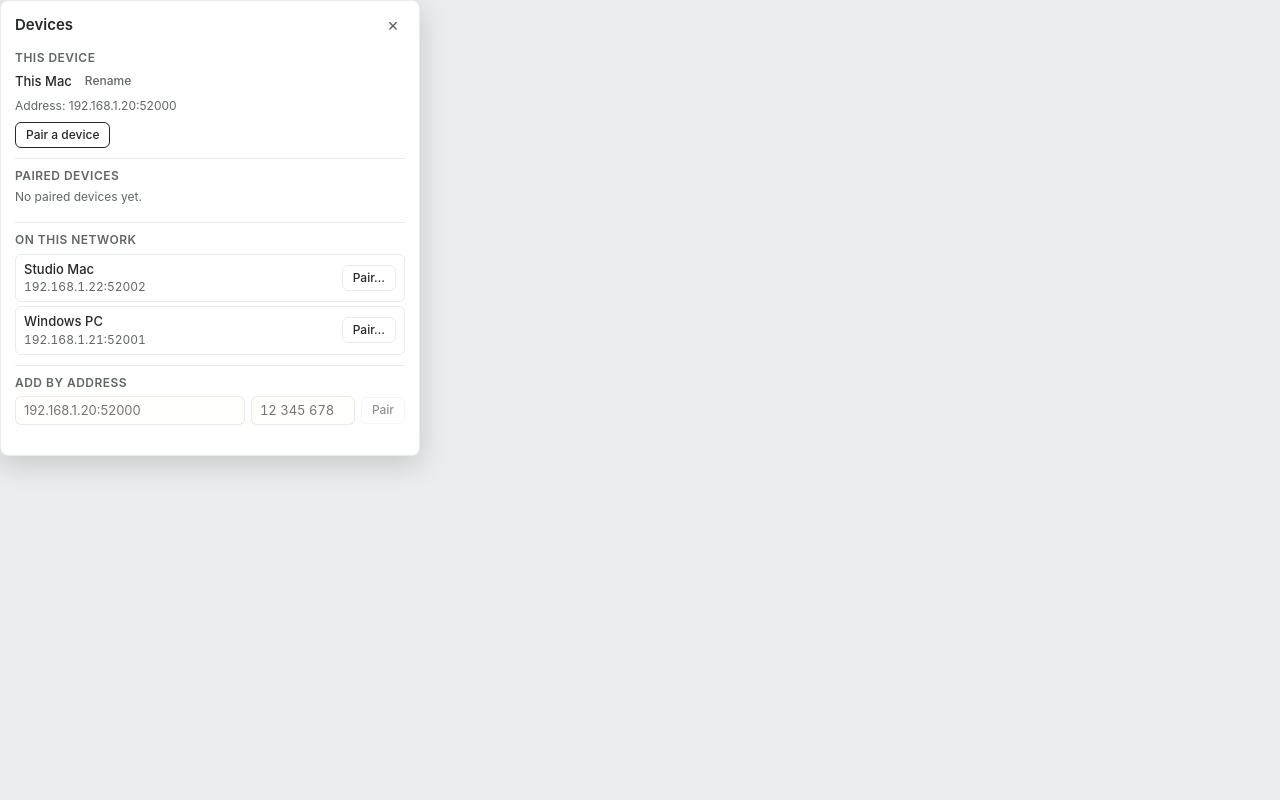
it: DevicesDialog › rejects a wrong code, then pairs a discovered device with the right one
Click the button with test id "discovered-pair" in the row of "Windows PC" at [369, 330], box [342,317,396,344]
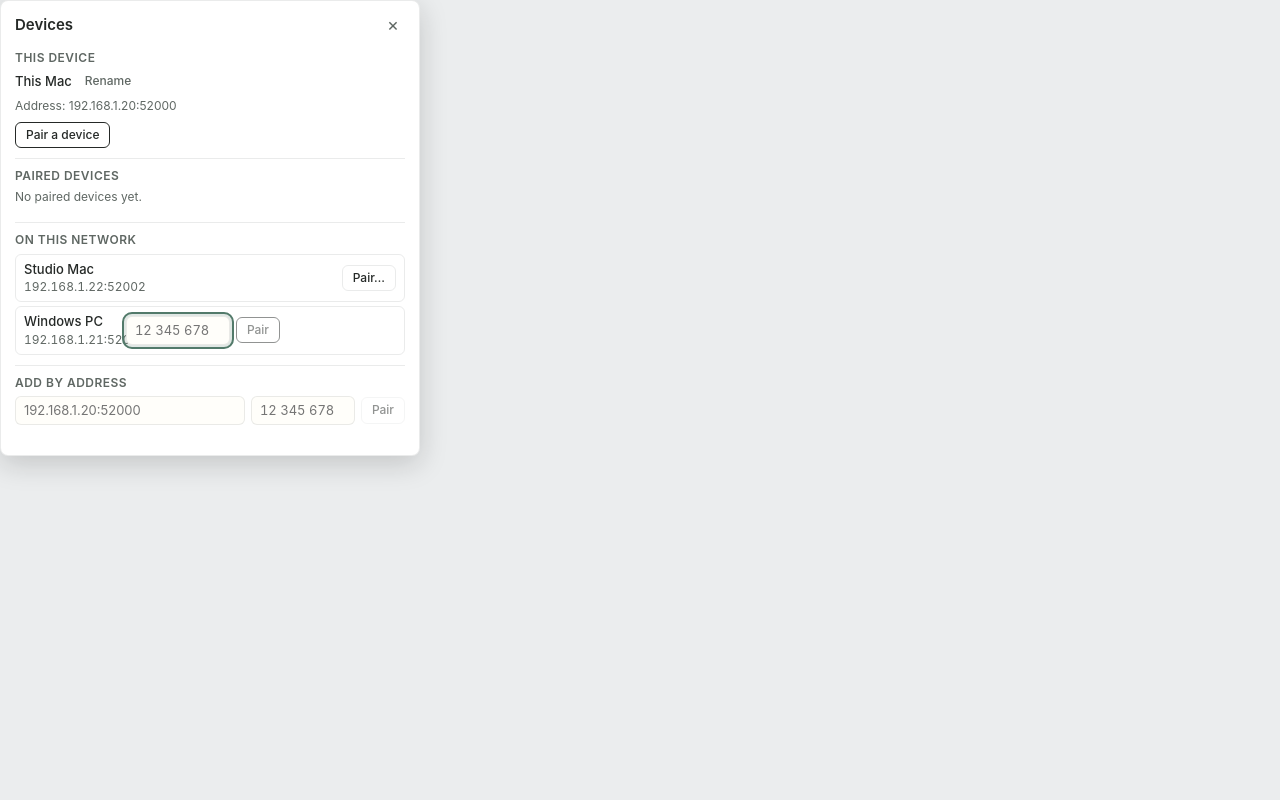
Type "99999999" into the field with test id "pair-code-input" at [178, 330], box [126,316,230,345]
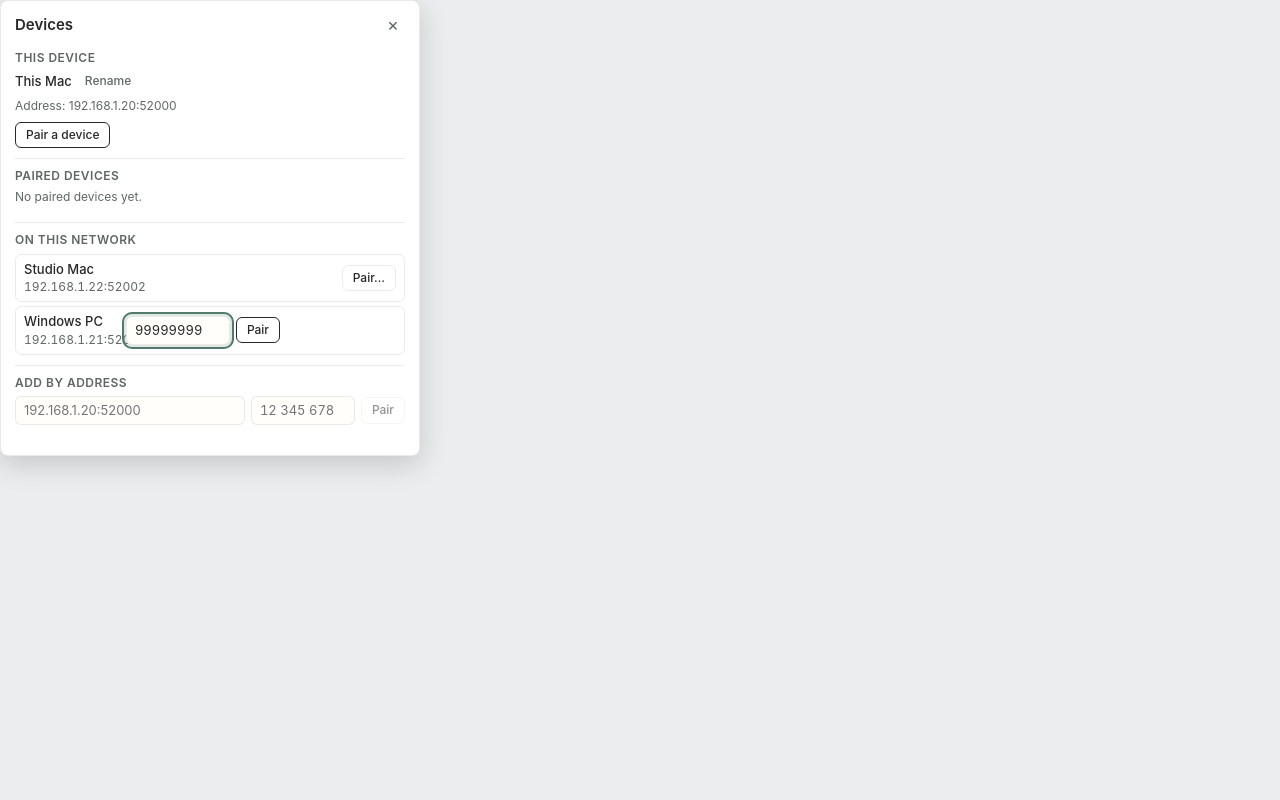
Click the button with test id "pair-submit" at [258, 330], box [236,317,280,344]
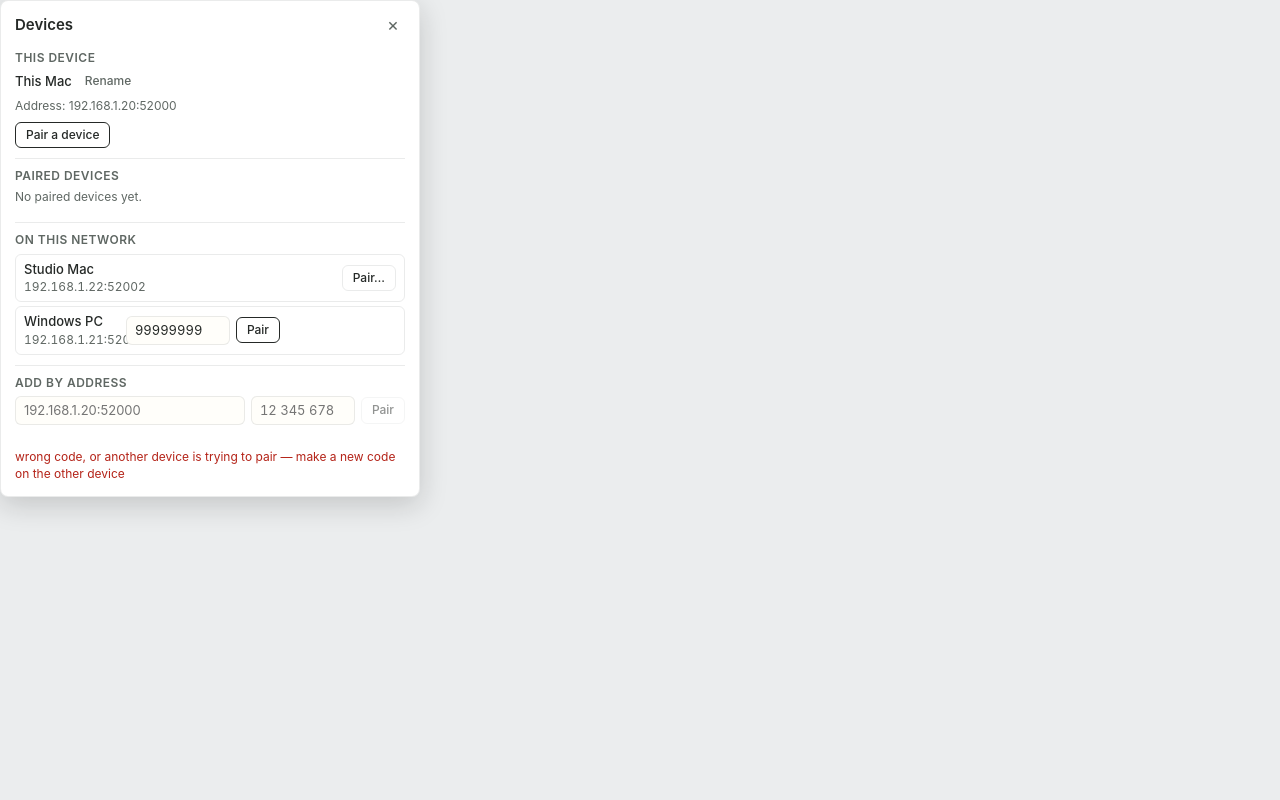
Now the message with test id "devices-error" shows "wrong code", box [15,449,395,481]
Replace the text in the field with test id "pair-code-input" with "12 345 678" at [178, 330], box [126,316,230,345]
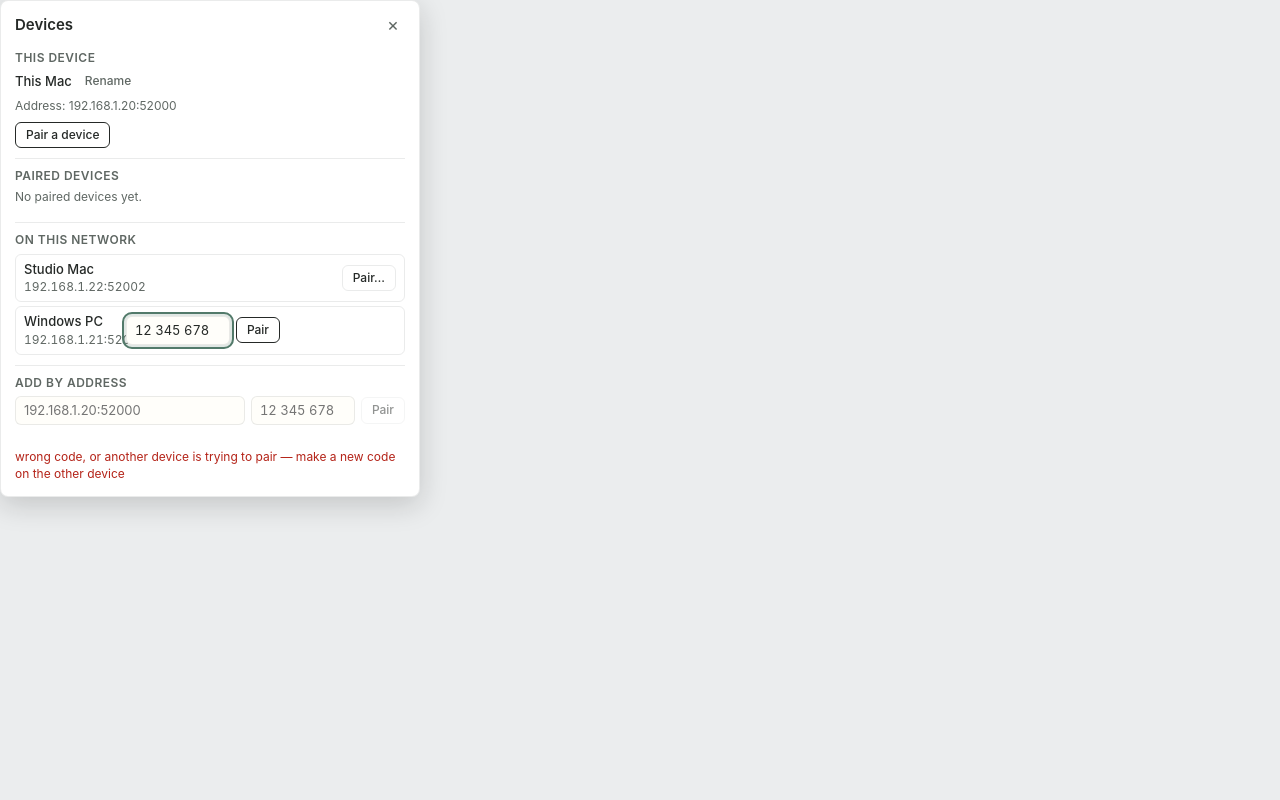
Click the button with test id "pair-submit" at [258, 330], box [236,317,280,344]
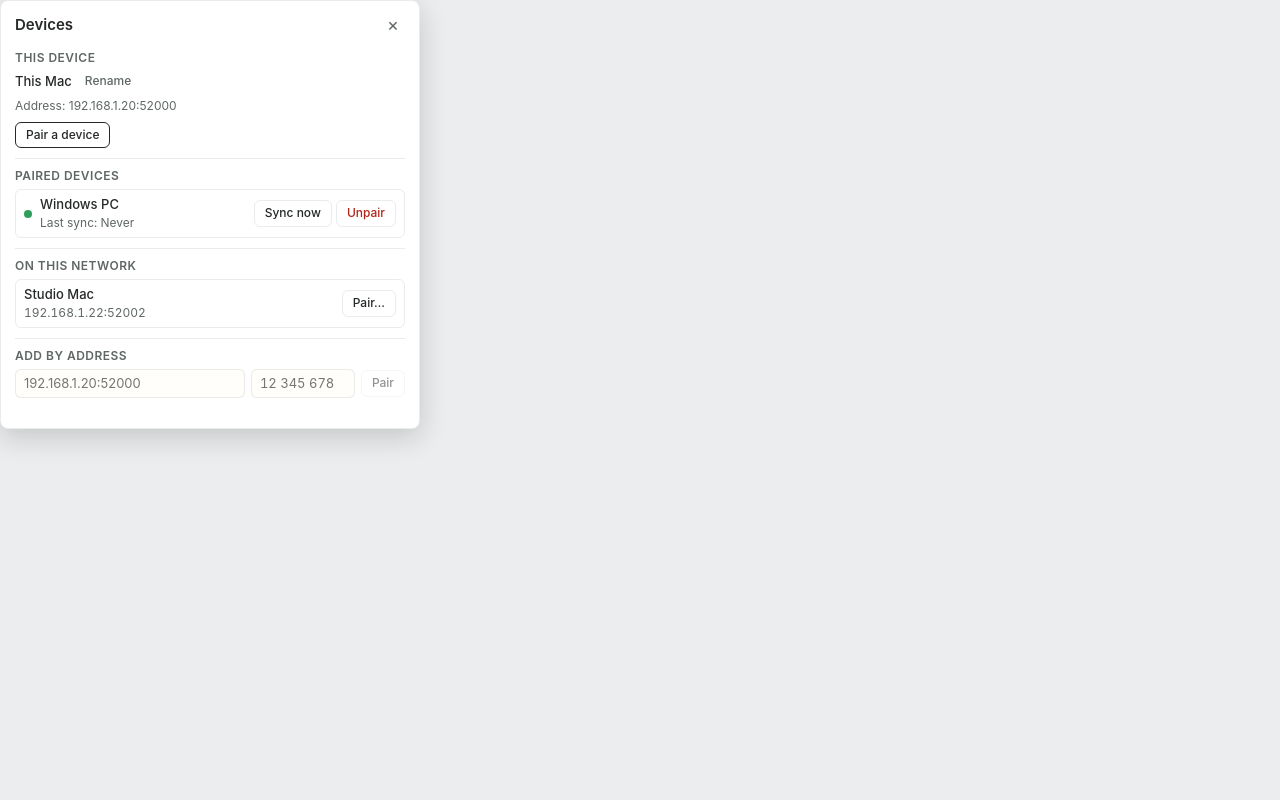
Now the list item with test id "paired-row" shows "Windows PC", box [40,196,119,212]
Now the text with test id "paired-last-sync" reads "Last sync: Never", box [40,215,134,230]
Now the message with test id "devices-error" is gone
